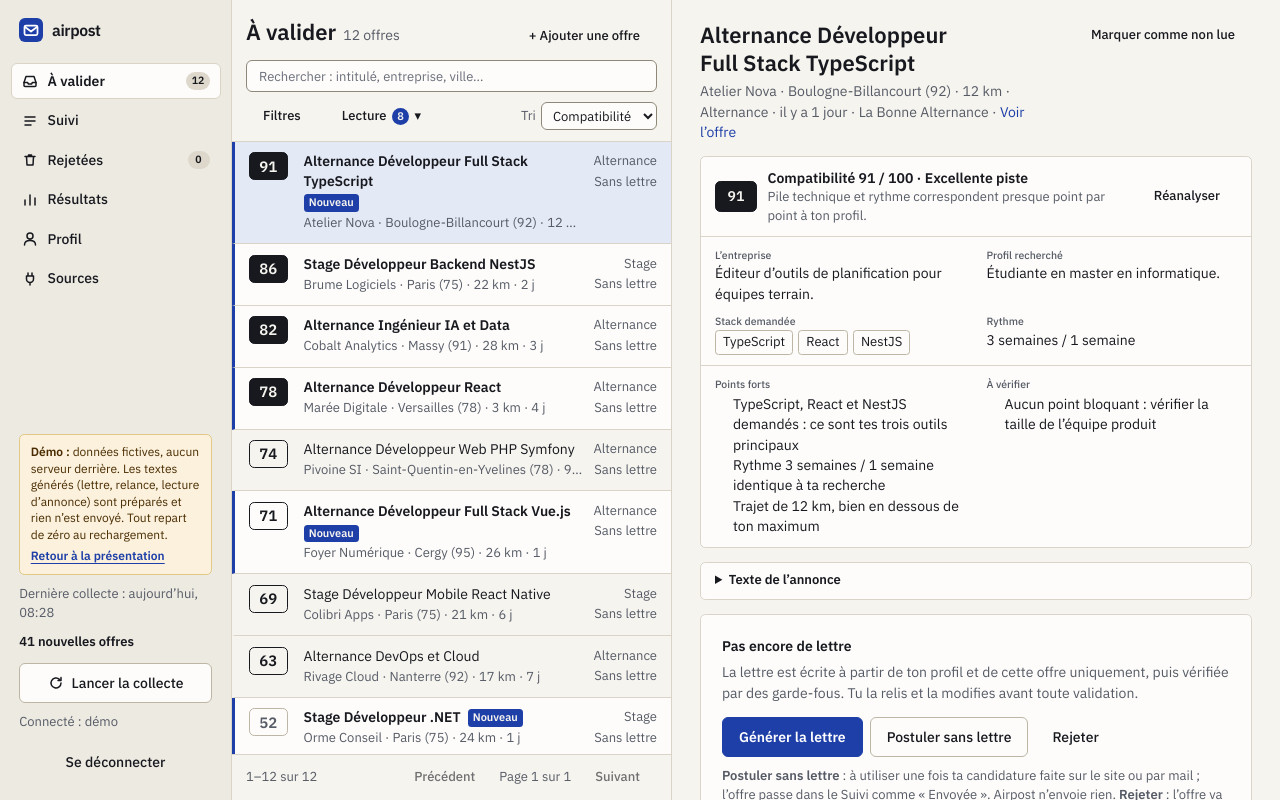
it: application en mode démo › prépare une relance et la copie, sans réseau
Click the link "Suivi" at coordinates (50, 120), box [22, 111, 79, 129]
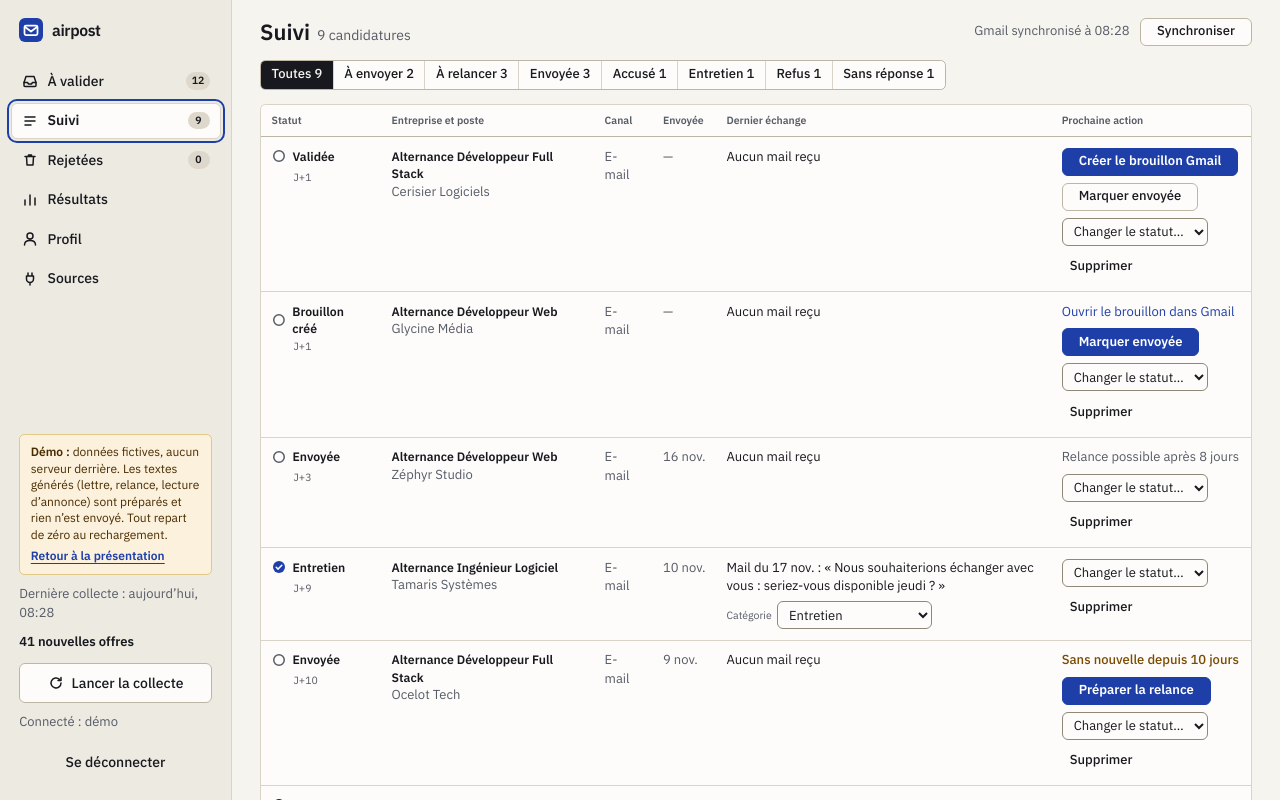
Click the button "Préparer la relance" at coordinates (1136, 691), box [1062, 677, 1211, 705]
(page scrolled)
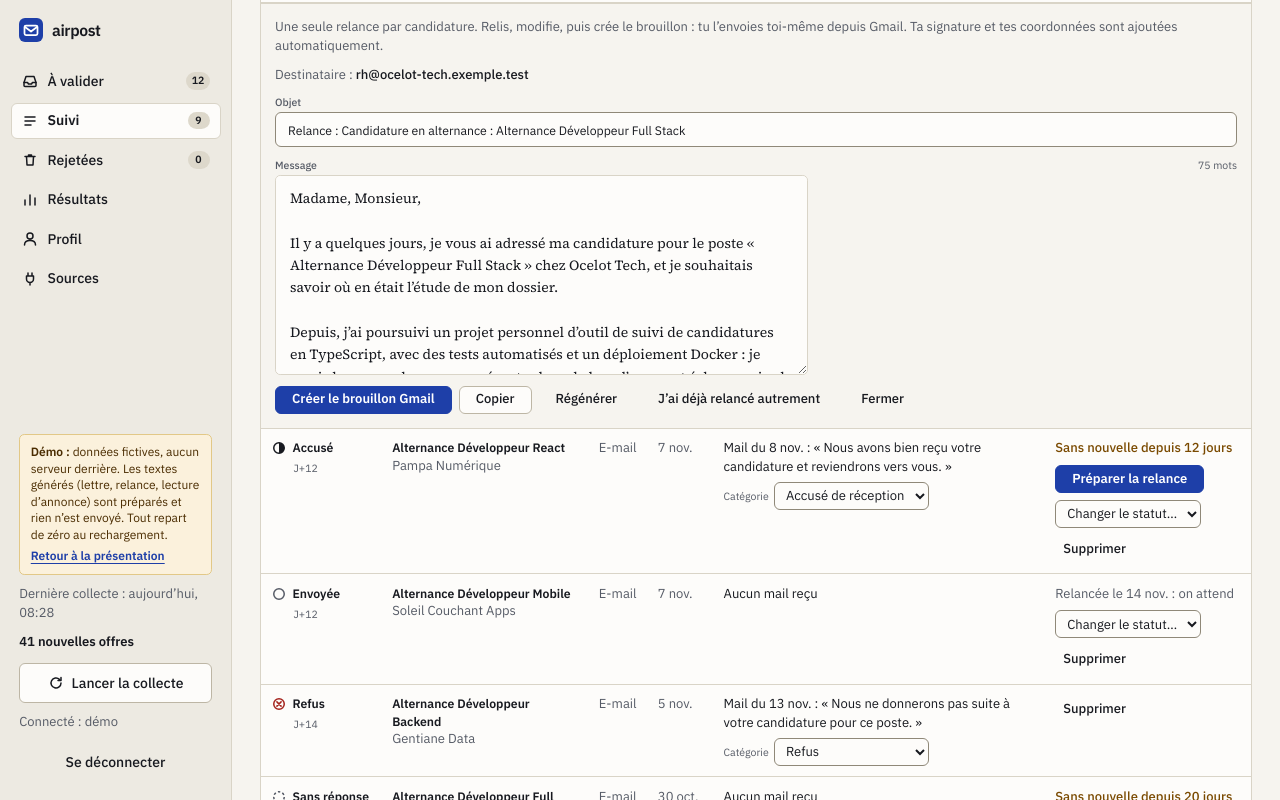
Click the button "Copier" at coordinates (495, 400), box [459, 386, 532, 414]
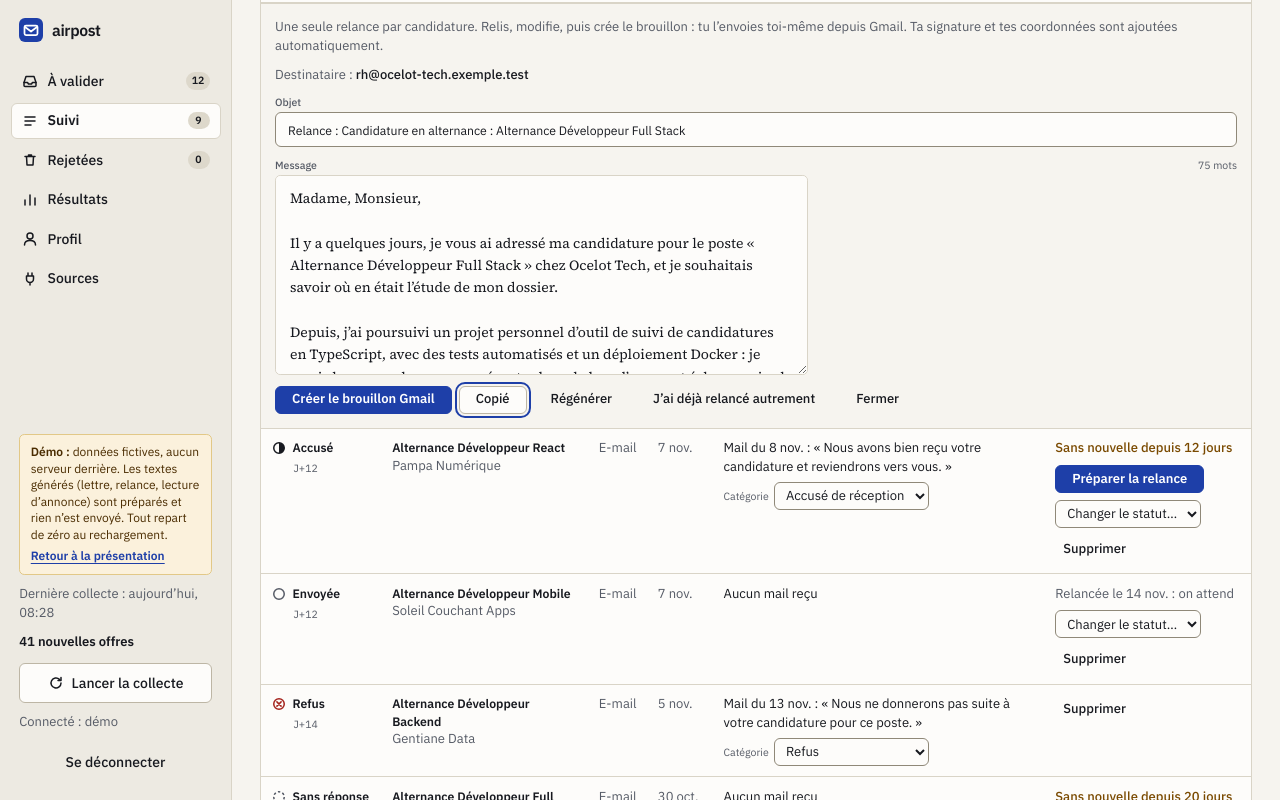
Check: the button "Copié" is shown, box [459, 386, 527, 414]
